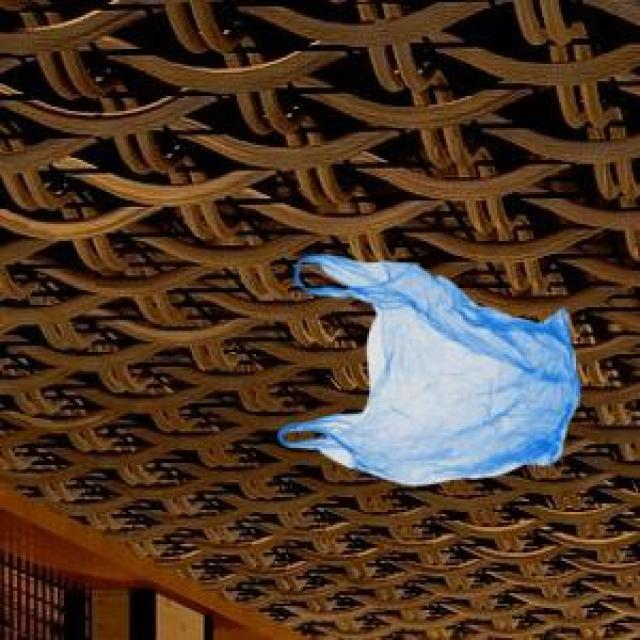waste: (279, 256, 580, 486)
